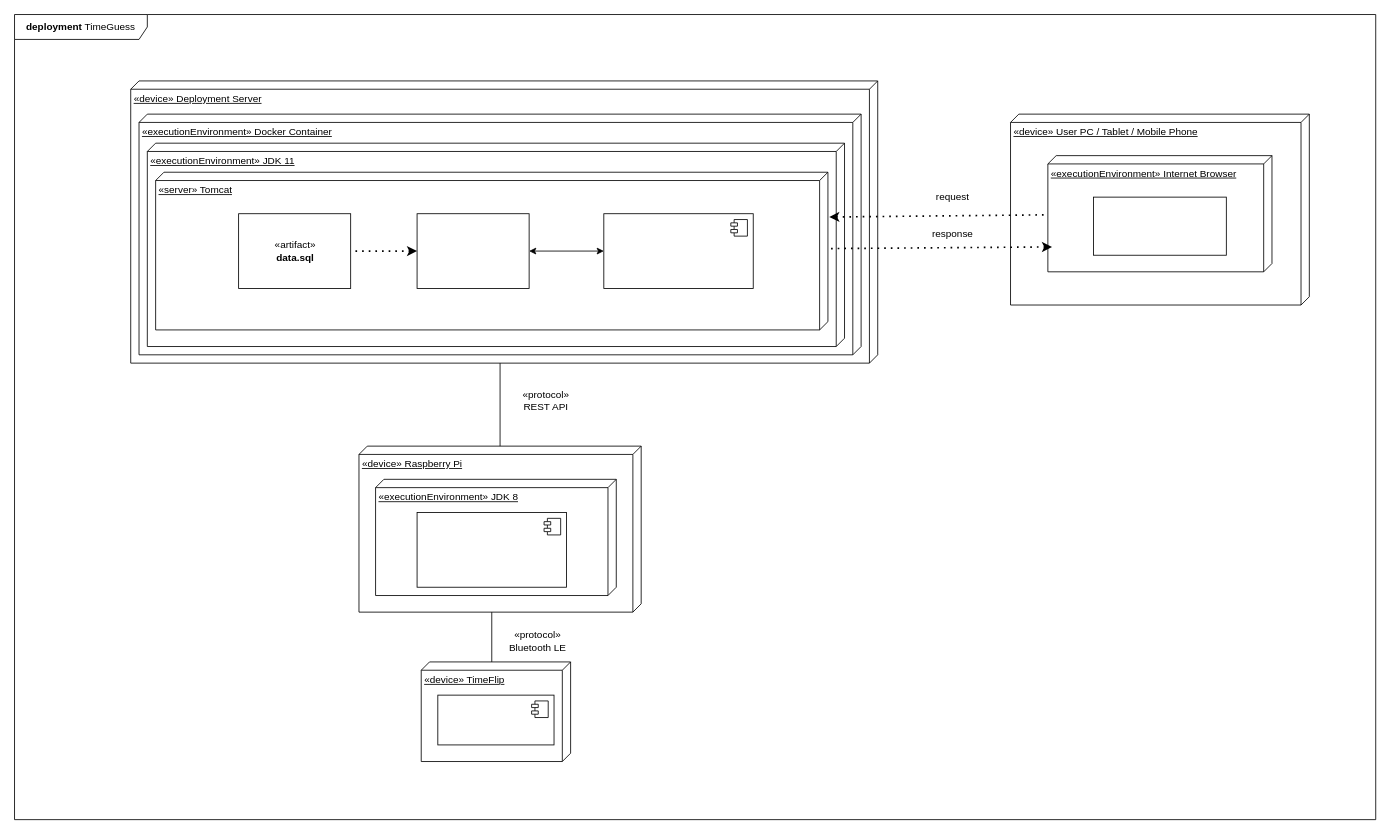
Image size: 1390x834. Some labels were removed from this diagram. The shapes that lost their labels are listed below. From the top down, each one's centre as x and y in pixels, then its label:
At point (1159, 225): "«artifact» index.html".
At point (472, 250): "«artifact» H2 Database".
At point (678, 250): "«component» at.timeguess.backend".
At point (491, 549): "«component» at.timeguess.raspberry".
At point (495, 719): "«binary» Firmware".
